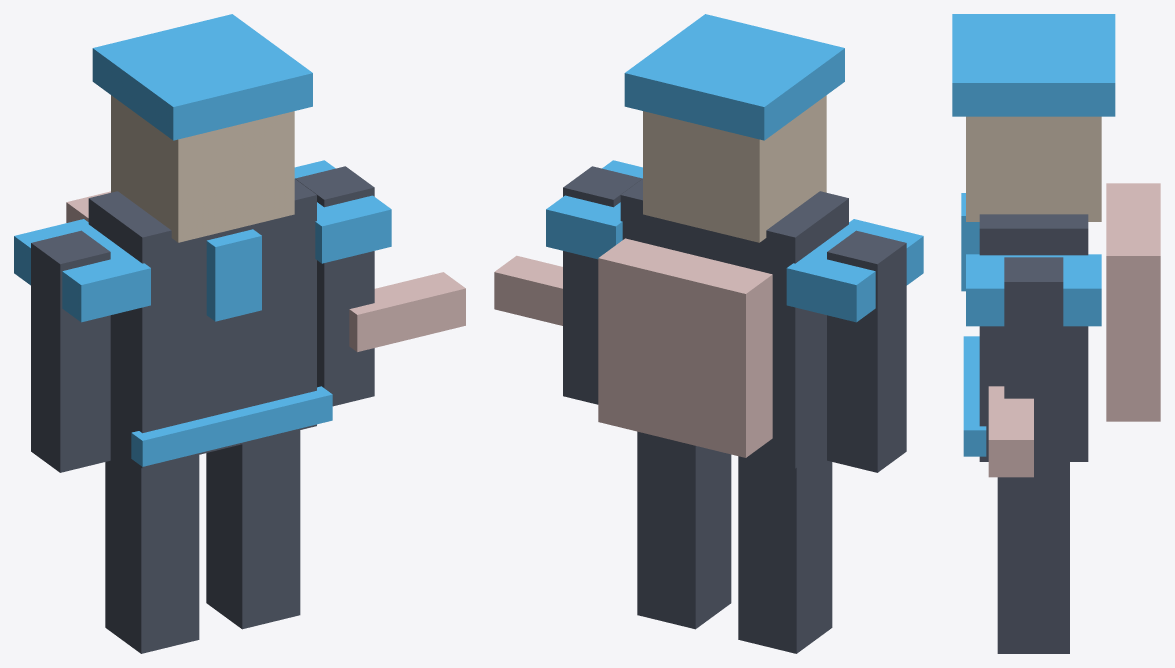
File: 10_maven_trenchmark_fixer_from_central.glb
3 views of the same model, side by side, from view 1: azimuth 30°, elevation 25°; view 2: azimuth 150°, elevation 25°; view 3: azimuth 270°, elevation 25° (orthographic).
Parts seen in each view (by area): view 1: Maven Trenchmark, Fixer from Central; view 2: Maven Trenchmark, Fixer from Central; view 3: Maven Trenchmark, Fixer from Central.
Part boxes in pixels (left/top/right/bottom): Maven Trenchmark, Fixer from Central: left=14, top=14, right=465, bottom=653; Maven Trenchmark, Fixer from Central: left=494, top=14, right=923, bottom=653; Maven Trenchmark, Fixer from Central: left=952, top=14, right=1160, bottom=653.
Size of the model in its own units: 1.12 by 1.52 by 0.5048.
